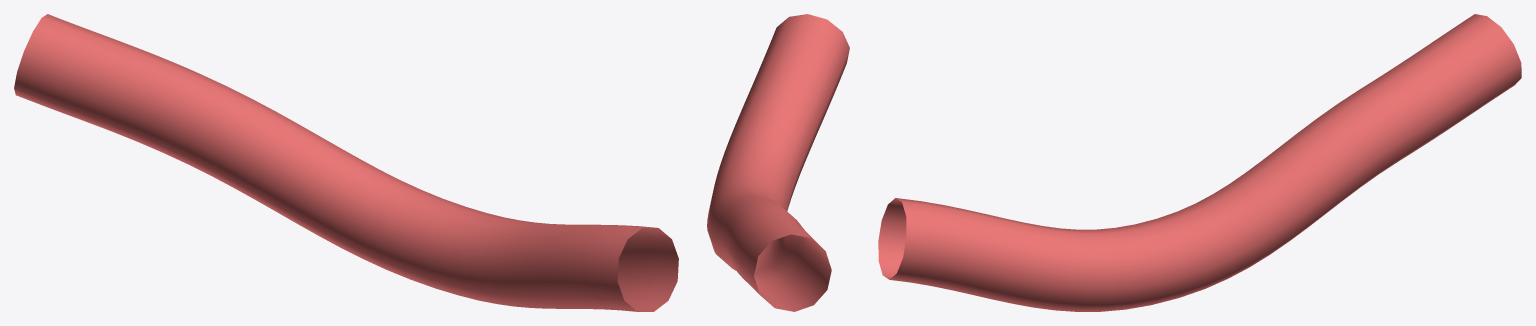
File: Posterior_communicating_artery.l_BezierCurve.354.glb
3 renders of one model, left to right at view 1: azimuth 30°, elevation 25°; view 2: azimuth 150°, elevation 25°; view 3: azimuth 270°, elevation 25°, orthographic. The views are drawn at different scales.
Visible parts, largest first — view 1: Posterior_communicating_artery.l_BezierCurve.354; view 2: Posterior_communicating_artery.l_BezierCurve.354; view 3: Posterior_communicating_artery.l_BezierCurve.354.
Boxes of the visible parts, box(x1,y1,x2,y2) form: Posterior_communicating_artery.l_BezierCurve.354: box(14, 14, 678, 311); Posterior_communicating_artery.l_BezierCurve.354: box(707, 14, 849, 311); Posterior_communicating_artery.l_BezierCurve.354: box(878, 14, 1521, 311).
Size of the model in its own units: 0.00721 by 0.00363 by 0.0117.
